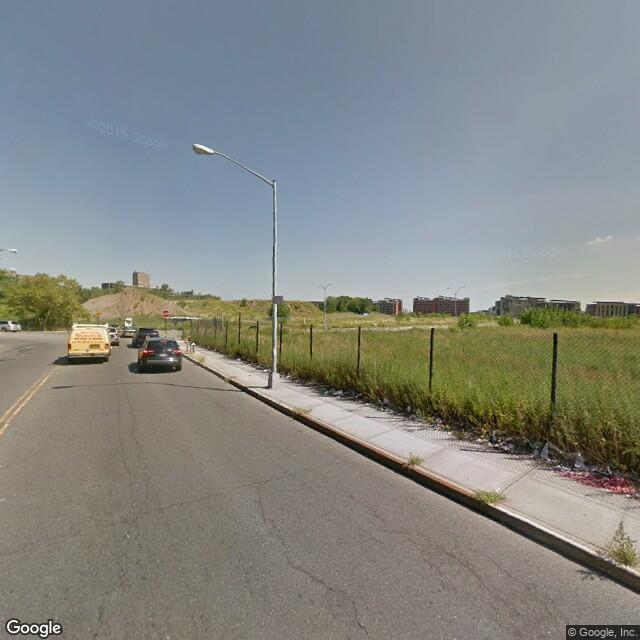litter: (557, 449, 636, 498), (258, 363, 272, 377), (232, 354, 245, 364)
